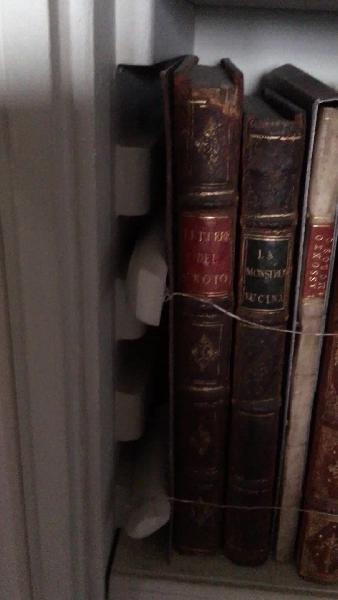Aa6-1: (149, 65, 237, 556)
Aa6-2: (230, 109, 304, 567)
Aa6-3: (253, 75, 338, 586)
